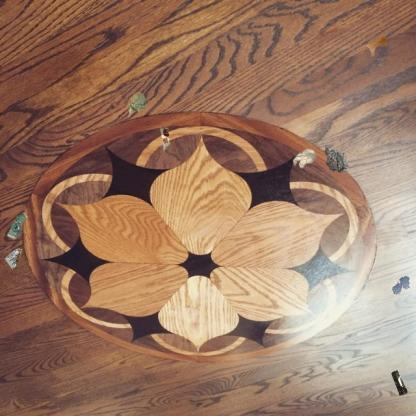dirty: (323, 144, 350, 173), (126, 90, 151, 118), (5, 212, 29, 240), (291, 147, 319, 170), (390, 368, 410, 398), (3, 246, 24, 270), (158, 126, 172, 152)
liquid: (390, 274, 412, 296), (365, 36, 388, 56)
